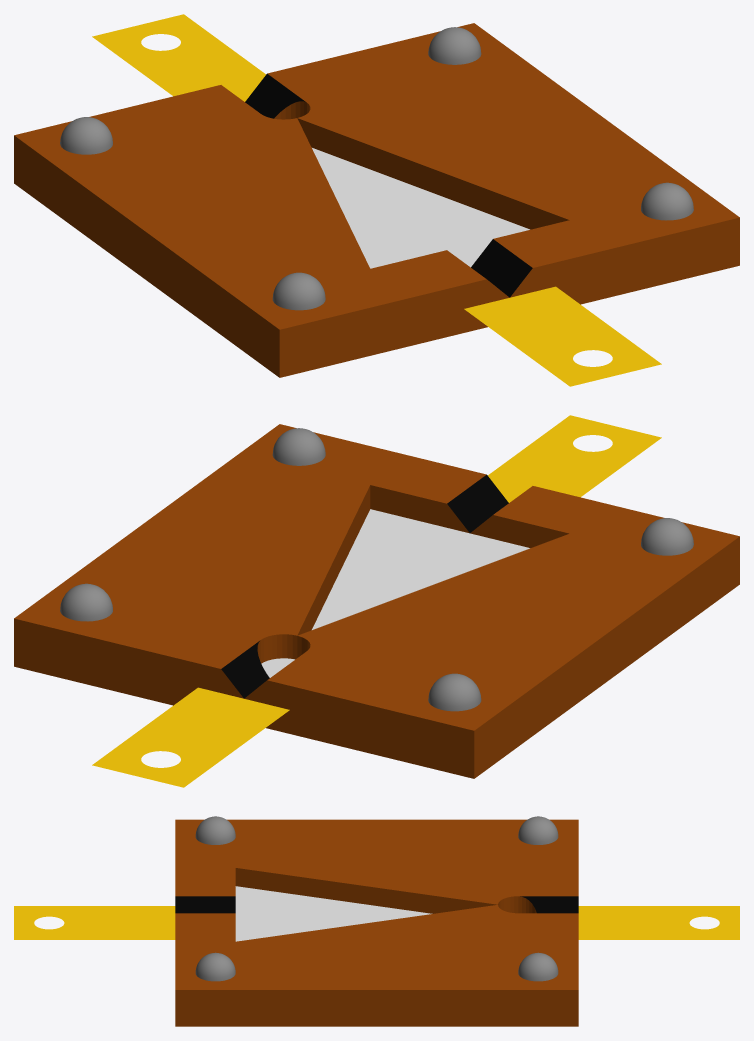
Rendered from logic_gate_not.fbx.
3 views of the same model, one above another, from view 1: azimuth 30°, elevation 25°; view 2: azimuth 150°, elevation 25°; view 3: azimuth 270°, elevation 25° (orthographic). The views are drawn at different scales.
Parts seen in each view (by area): view 1: logic gate not; view 2: logic gate not; view 3: logic gate not.
Part boxes in pixels (box(x1,y1,x2,y2)): logic gate not: box(14, 14, 739, 386); logic gate not: box(14, 415, 739, 787); logic gate not: box(14, 816, 739, 1026).
Size of the model in its own units: 200 by 30 by 360.
